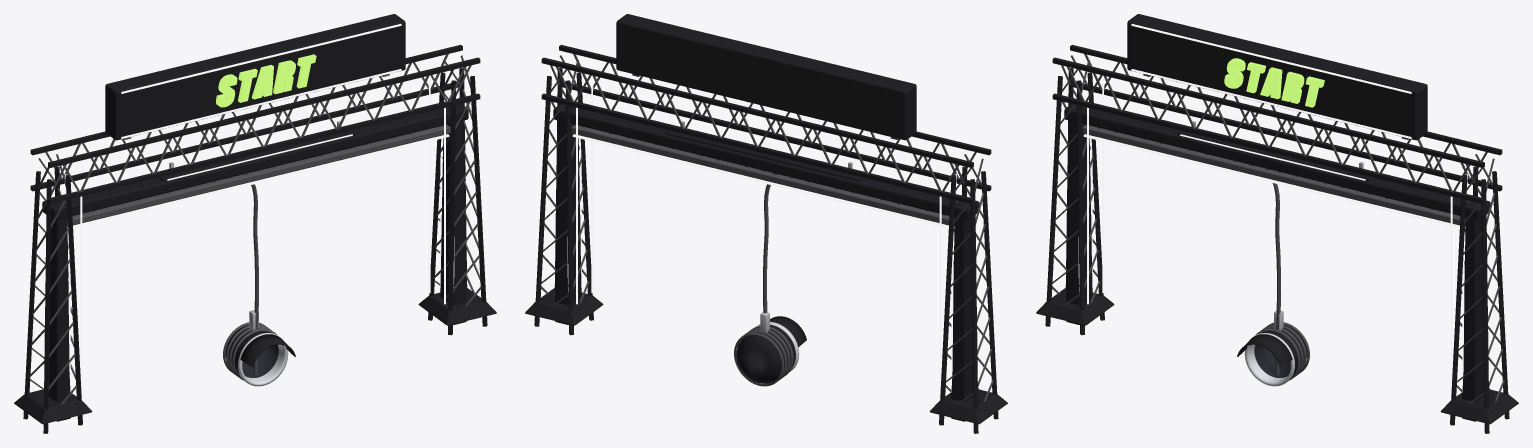
Rendered from nr_props.glb.
3 renders of one model, left to right at view 1: azimuth 30°, elevation 25°; view 2: azimuth 150°, elevation 25°; view 3: azimuth 330°, elevation 25°, orthographic.
Parts seen in each view (by area): view 1: startgate, gantry, startlamp, lamp; view 2: startgate, gantry, startlamp, lamp; view 3: startgate, gantry, startlamp, lamp.
Part boxes in pixels (x1,y1,x2,y2): startgate: (14,14,496,433); gantry: (42,104,468,421); startlamp: (223,310,295,386); lamp: (244,173,259,375); startgate: (525,14,1007,433); gantry: (553,104,979,421); startlamp: (734,312,806,386); lamp: (763,173,777,312); startgate: (1036,14,1518,433); gantry: (1064,104,1490,421); startlamp: (1237,310,1309,386); lamp: (1266,168,1280,375).
Bounding box in the file's own units: 21.14 × 14.56 × 2.67.
